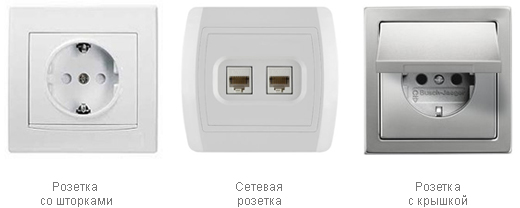raccoon: (44, 40, 121, 117), (401, 69, 477, 118)
